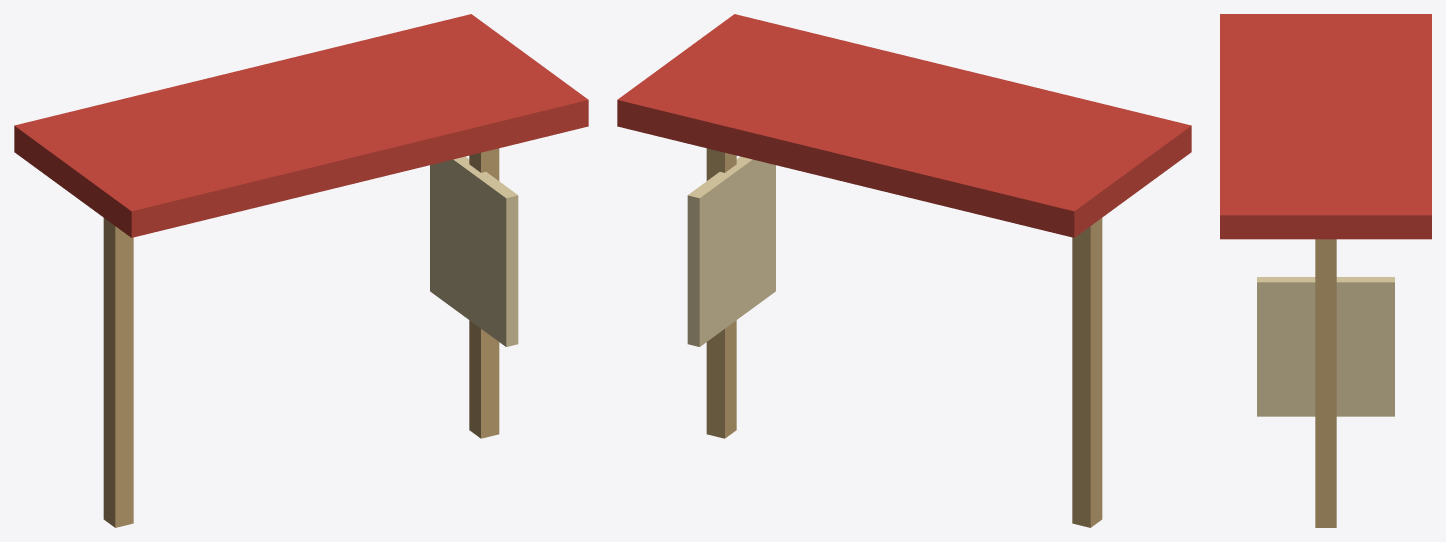
3 views of the same model, side by side, from view 1: azimuth 30°, elevation 25°; view 2: azimuth 150°, elevation 25°; view 3: azimuth 270°, elevation 25° (orthographic). The views are drawn at different scales.
Parts seen in each view (by area): view 1: RC-027 Transit shelter batched; view 2: RC-027 Transit shelter batched; view 3: RC-027 Transit shelter batched.
Part boxes in pixels (x1=…): RC-027 Transit shelter batched: x1=14, y1=14, x2=588, y2=527; RC-027 Transit shelter batched: x1=617, y1=14, x2=1191, y2=527; RC-027 Transit shelter batched: x1=1220, y1=14, x2=1431, y2=527.
Bounding box in the file's own units: 4.5 × 3.42 × 2.
